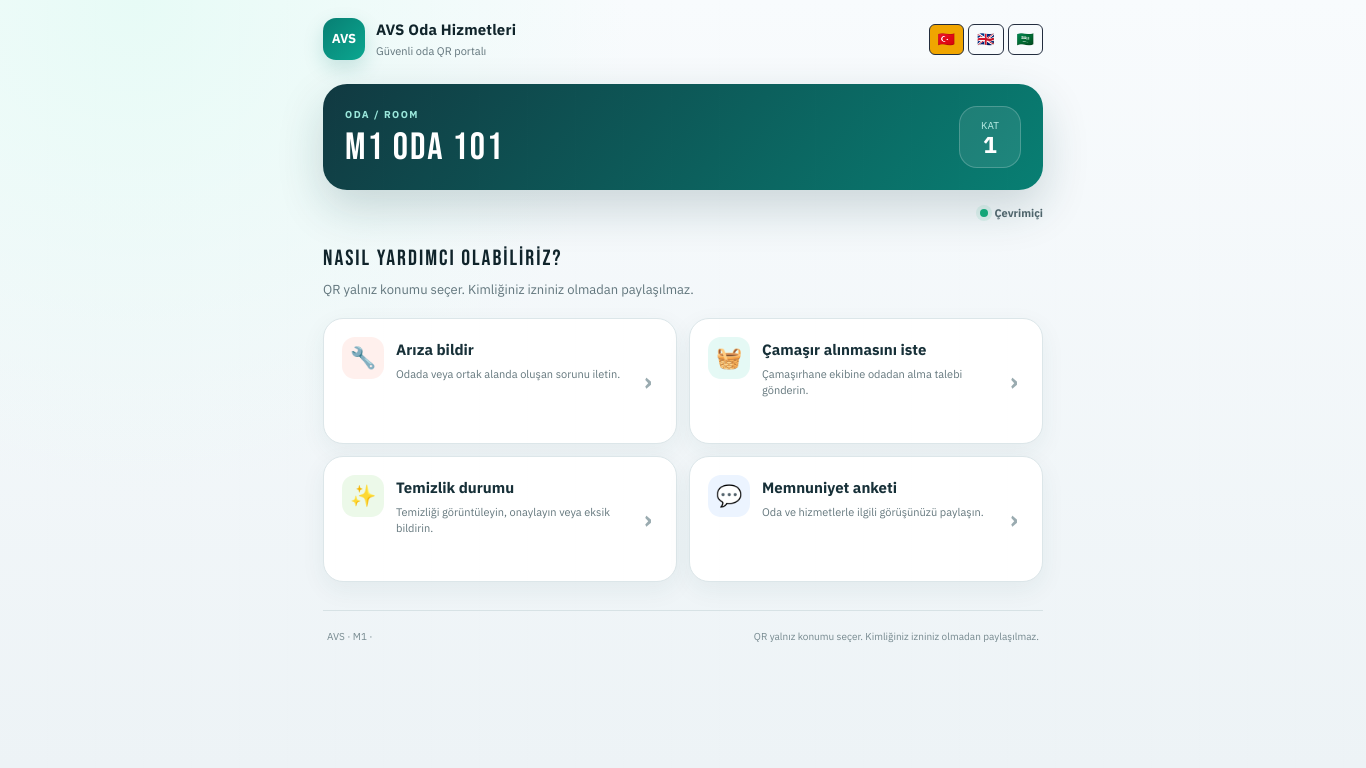
Test: RoomPortalPage › bekleyen temizlikte görevliye saha ekranı bağlantısı gösterir; eski çalışan formu yok
What coordinates should you click on to do the following:
click the button "Temizlik durumu"
I would click on:
 (500, 518)
Its box is 323,456 -> 677,582.
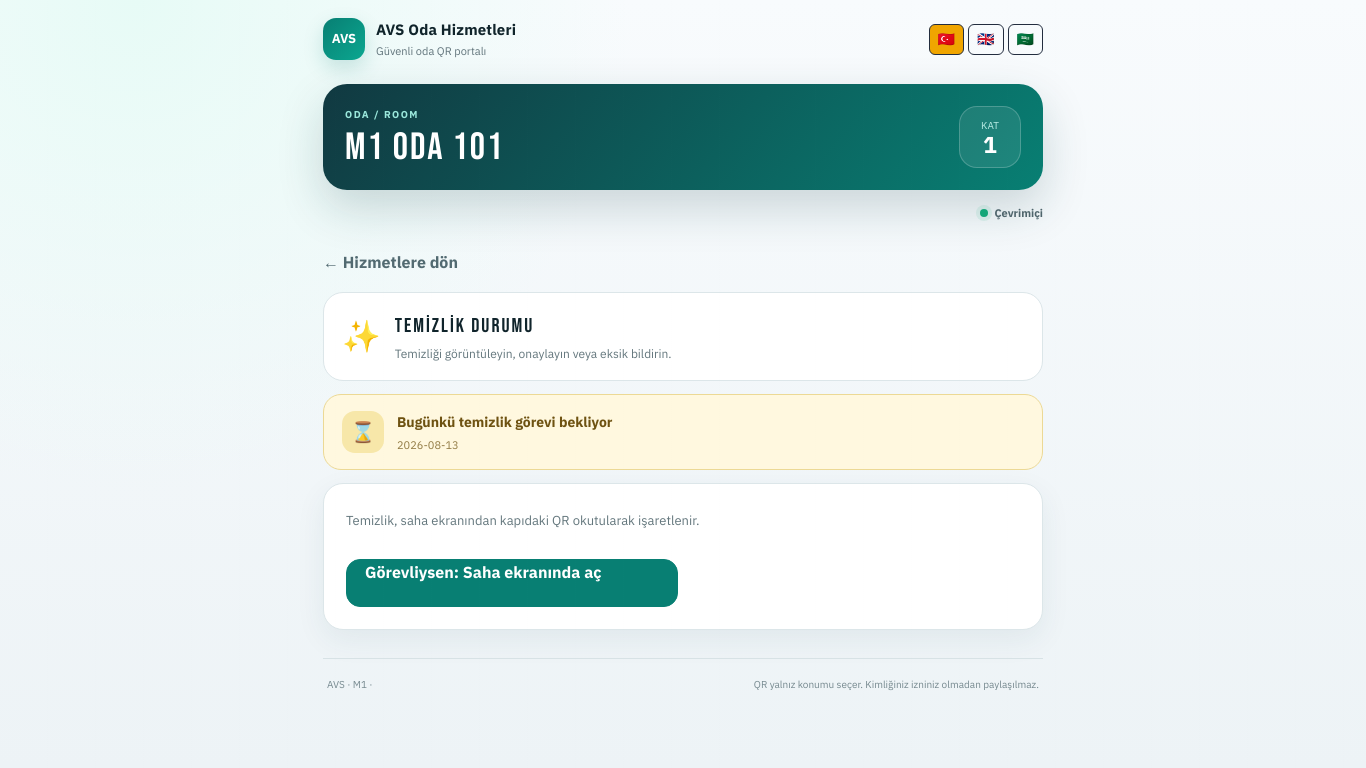
Result: the text "Bugünkü temizlik görevi bekliyor" is shown at 397,412 -> 612,433
